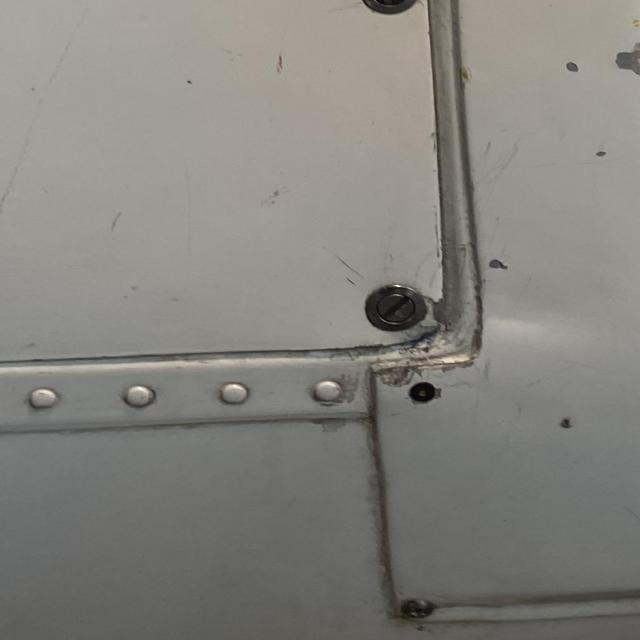Paint-off: (615, 45, 640, 77), (586, 146, 613, 163), (487, 256, 511, 272), (566, 63, 580, 75)
